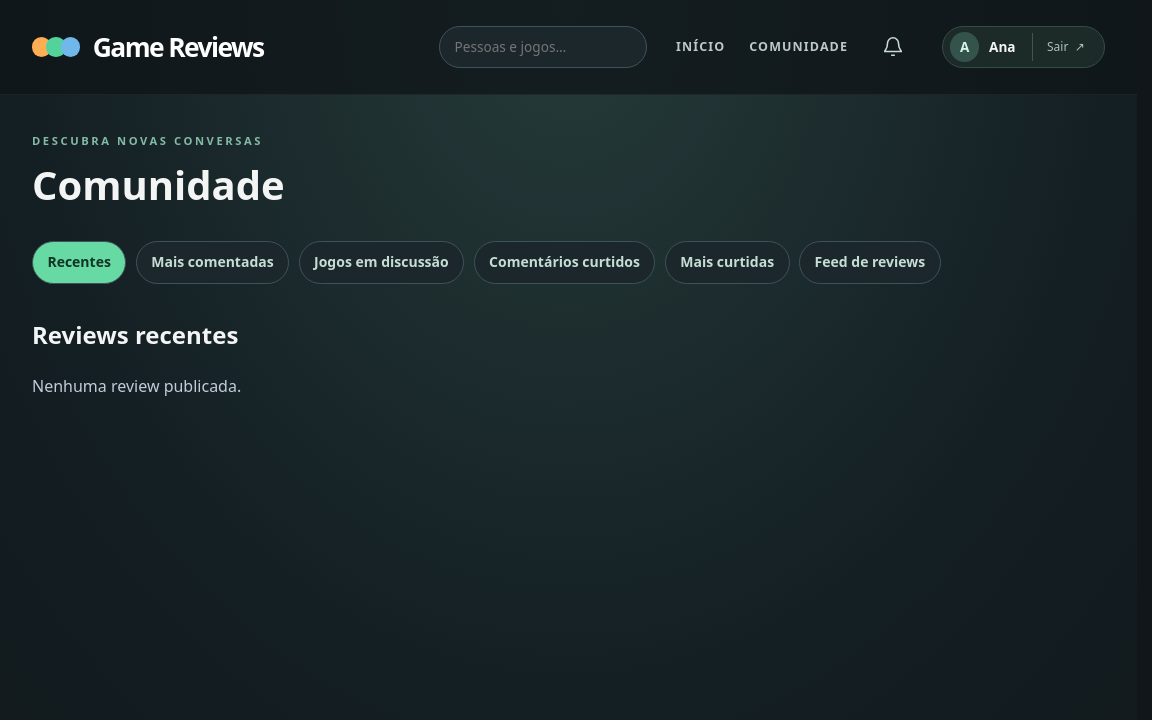
Test: estrela real junto ao título em /comunidade sem GET por card
This screenshot has width=1152, height=720.
Click the button "Jogos em discussão" at (381, 262), box [299, 241, 464, 284]
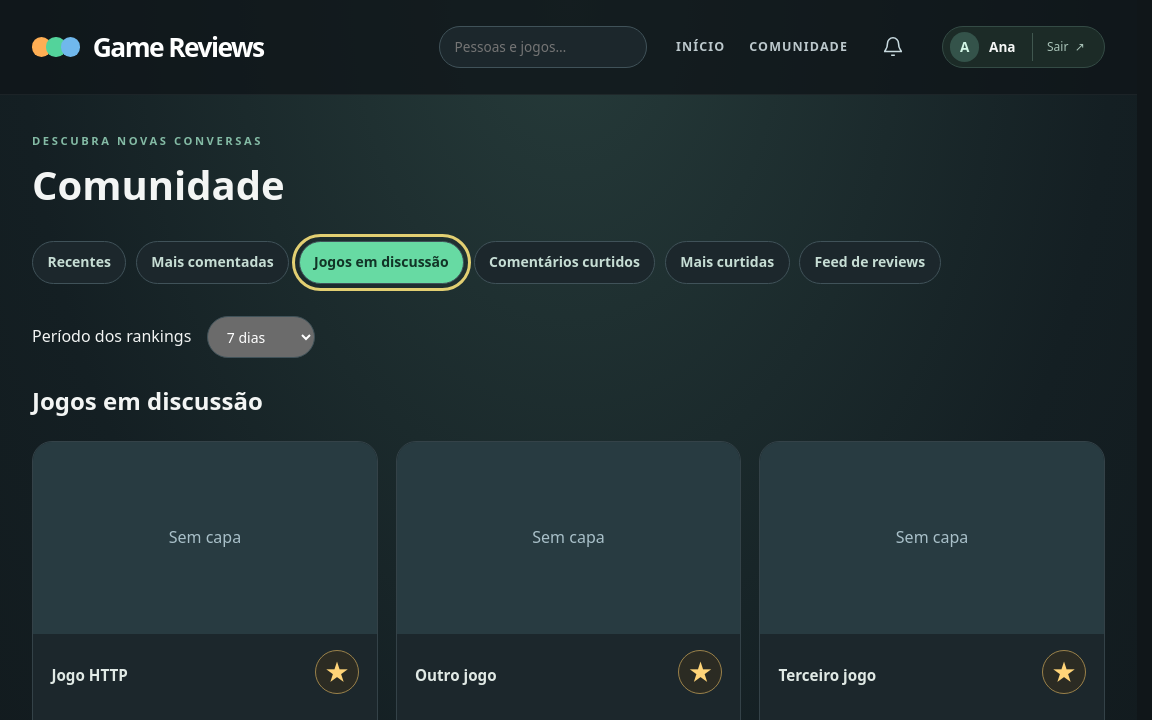
Check: the button named "Remover jogo Jogo HTTP dos favoritos" reads "★", box [314, 650, 358, 694]
Check: the heading "Jogo HTTP" is shown, box [51, 665, 128, 685]
